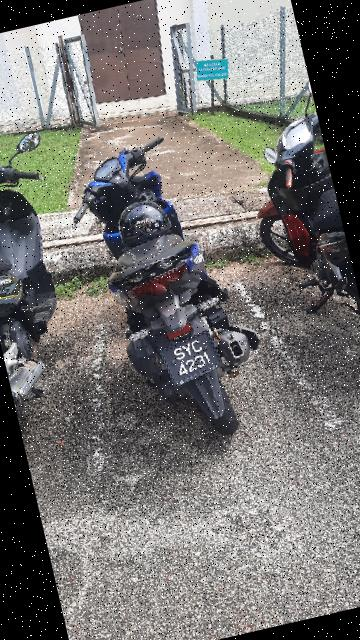License_Plate: (158, 325, 231, 389)
motorcycle: (58, 109, 289, 456)
